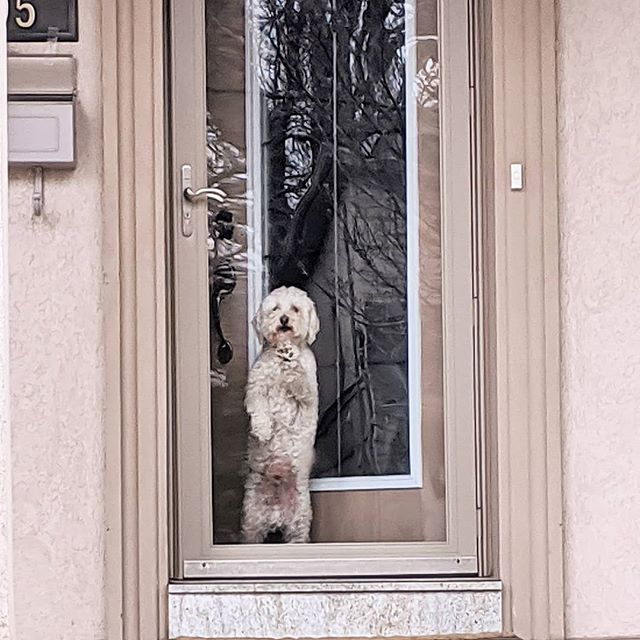animal: (236, 279, 322, 549)
door: (175, 3, 511, 580)
